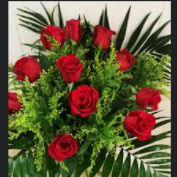RedRose: (65, 79, 98, 115), (122, 111, 156, 139), (13, 54, 45, 78), (35, 22, 63, 49), (133, 86, 164, 109), (90, 20, 115, 48), (109, 52, 144, 71), (50, 135, 76, 160), (56, 54, 82, 77), (65, 12, 85, 41), (7, 90, 30, 112)
